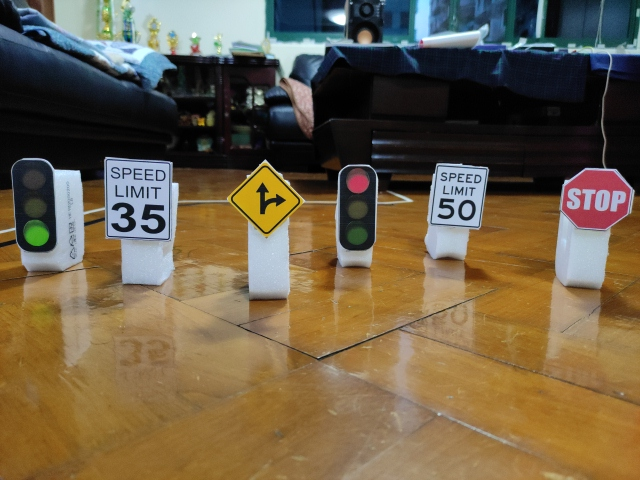Green Traffic Light: (11, 157, 59, 253)
Red Traffic Light: (338, 162, 379, 252)
Speed Limit 35: (103, 155, 174, 240)
Speed Limit 50: (428, 163, 488, 230)
Stop Sign: (560, 169, 633, 232)
Straight Or Right Sign: (227, 163, 304, 235)
